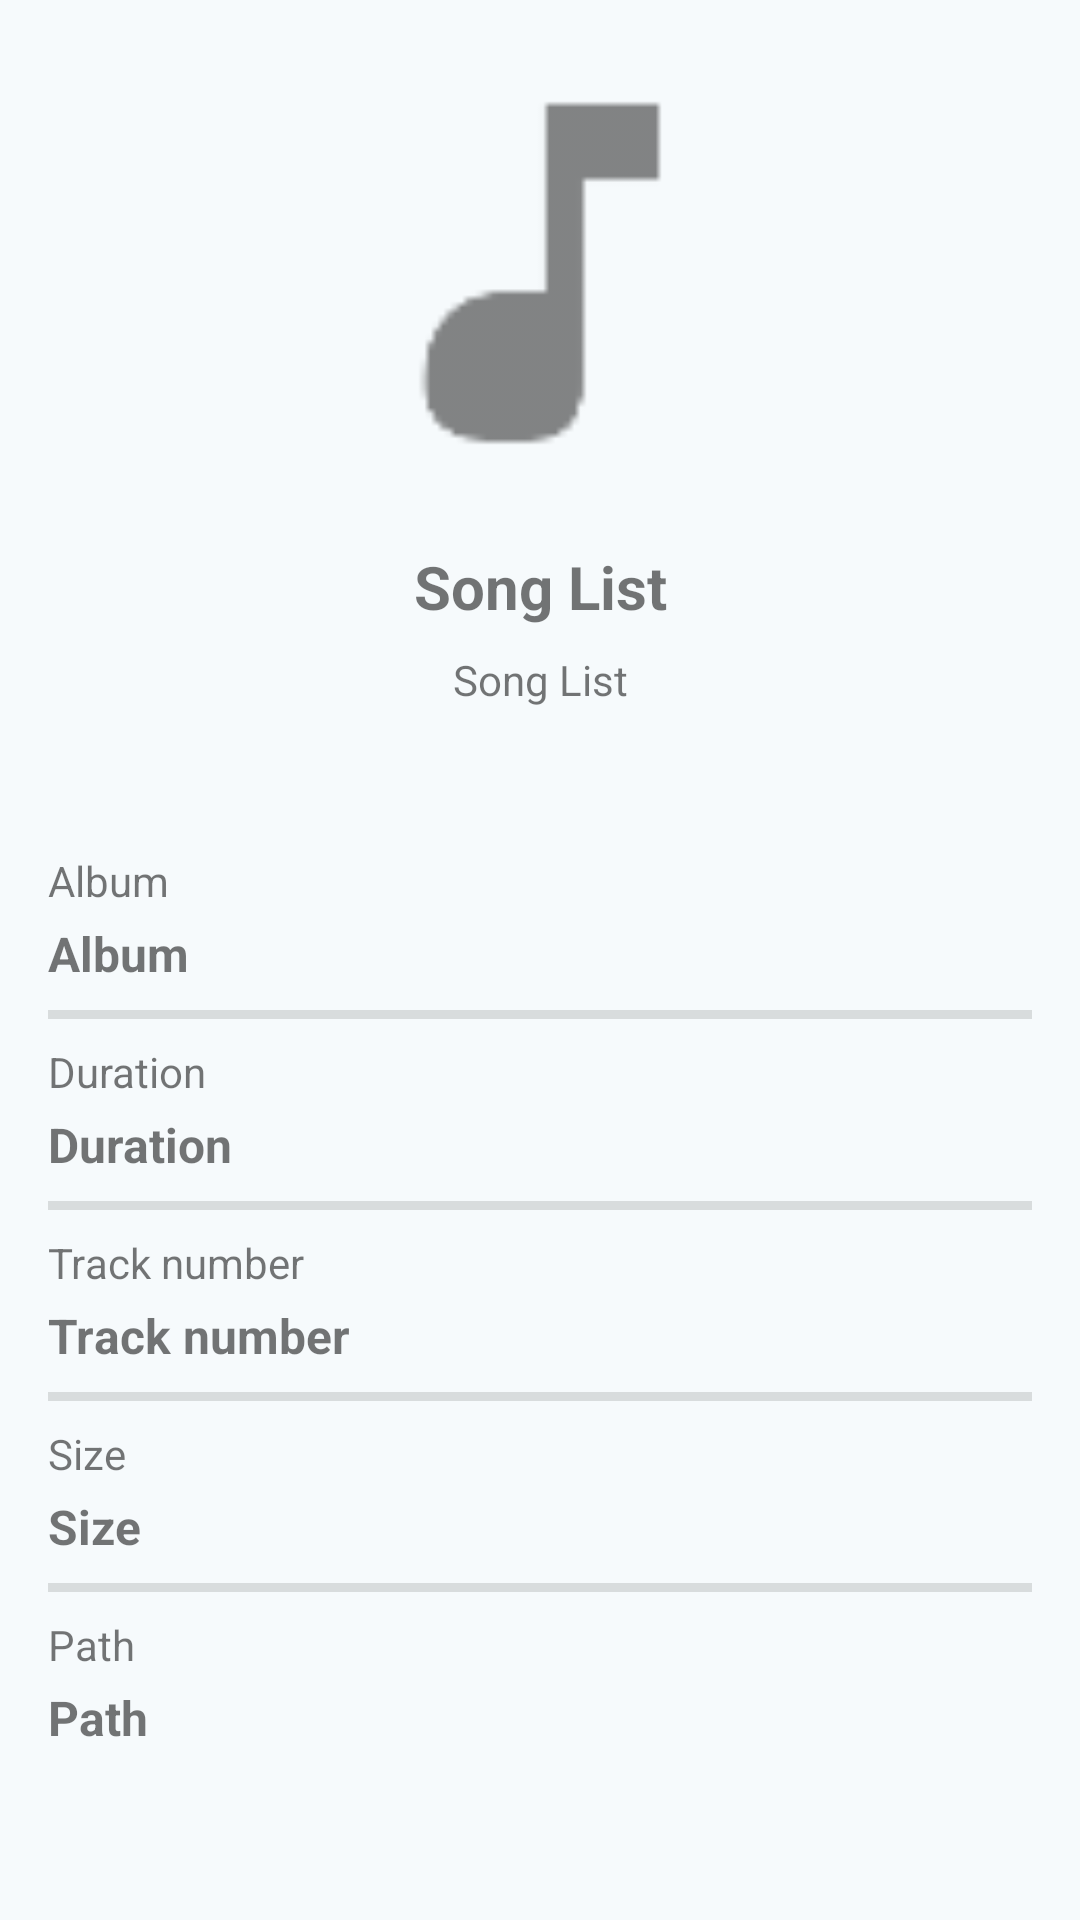

Icons on this 1080 × 1920 Android screen, each with the point to tap as point (x, y):
Song Thumbnail: point (541, 273)
